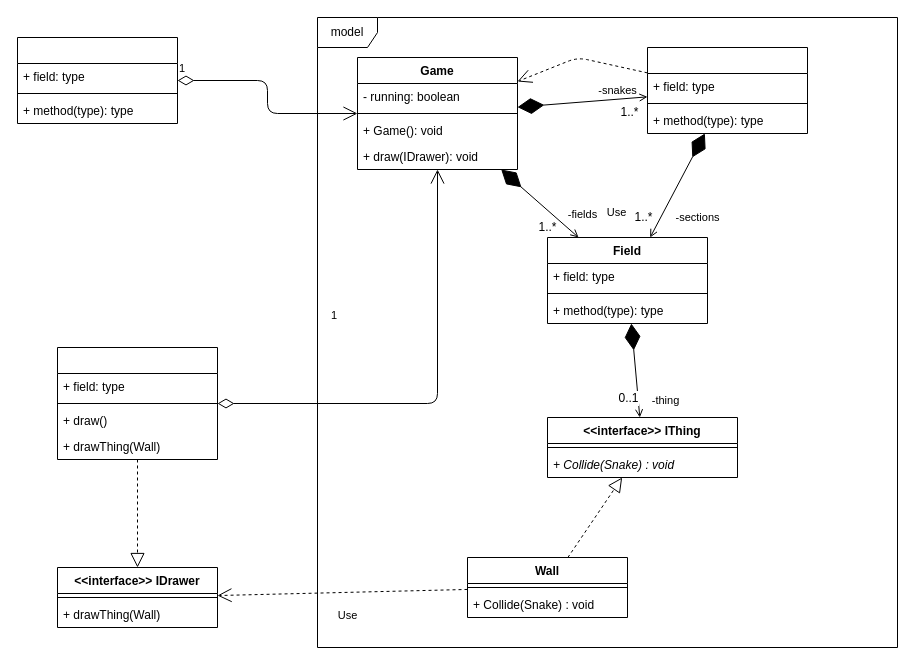
Some shapes in this 915 by 665 pixel diagram are drawn without their labels. Each missing label, with the box of its shape:
Controller: (16, 36, 178, 124)
Drawer: (56, 346, 218, 460)
Snake: (646, 46, 808, 134)
